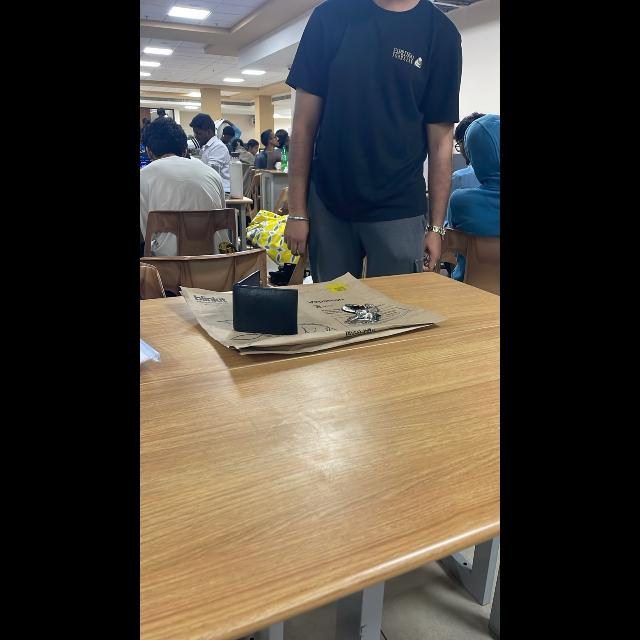keys: (331, 278, 393, 338)
wallet: (230, 266, 320, 348)
